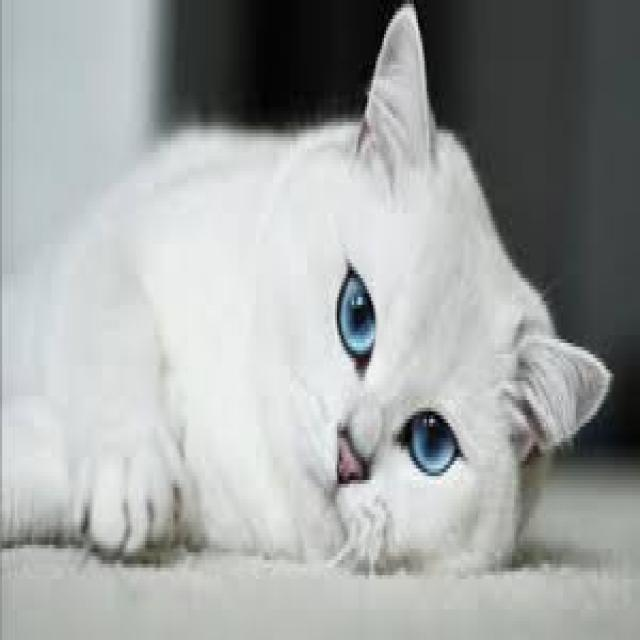Cat: (42, 2, 617, 584)
